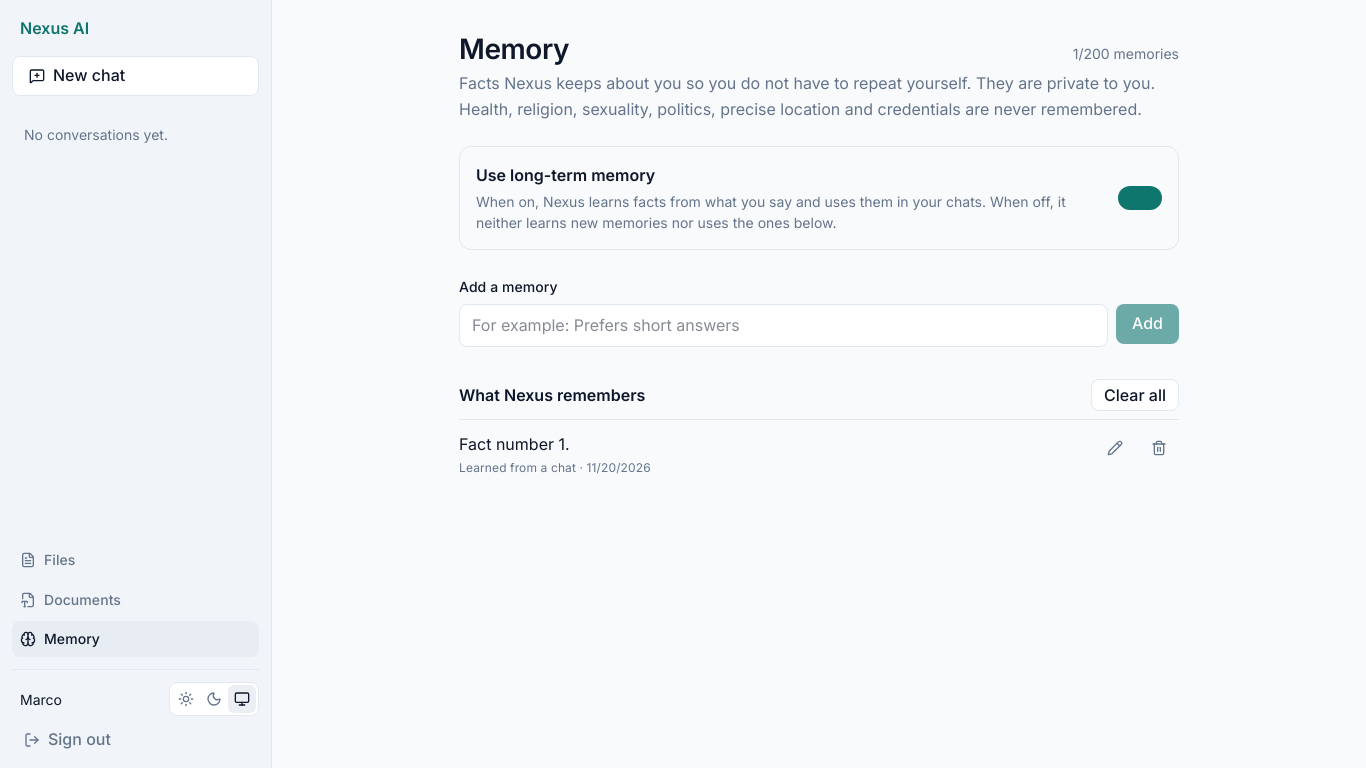
Scenario: Settings → Memory › adding › adds a memory at the top and clears the box
Type "Lives in Pune." into the field labelled "Add a memory" at (784, 326), box [459, 304, 1108, 347]
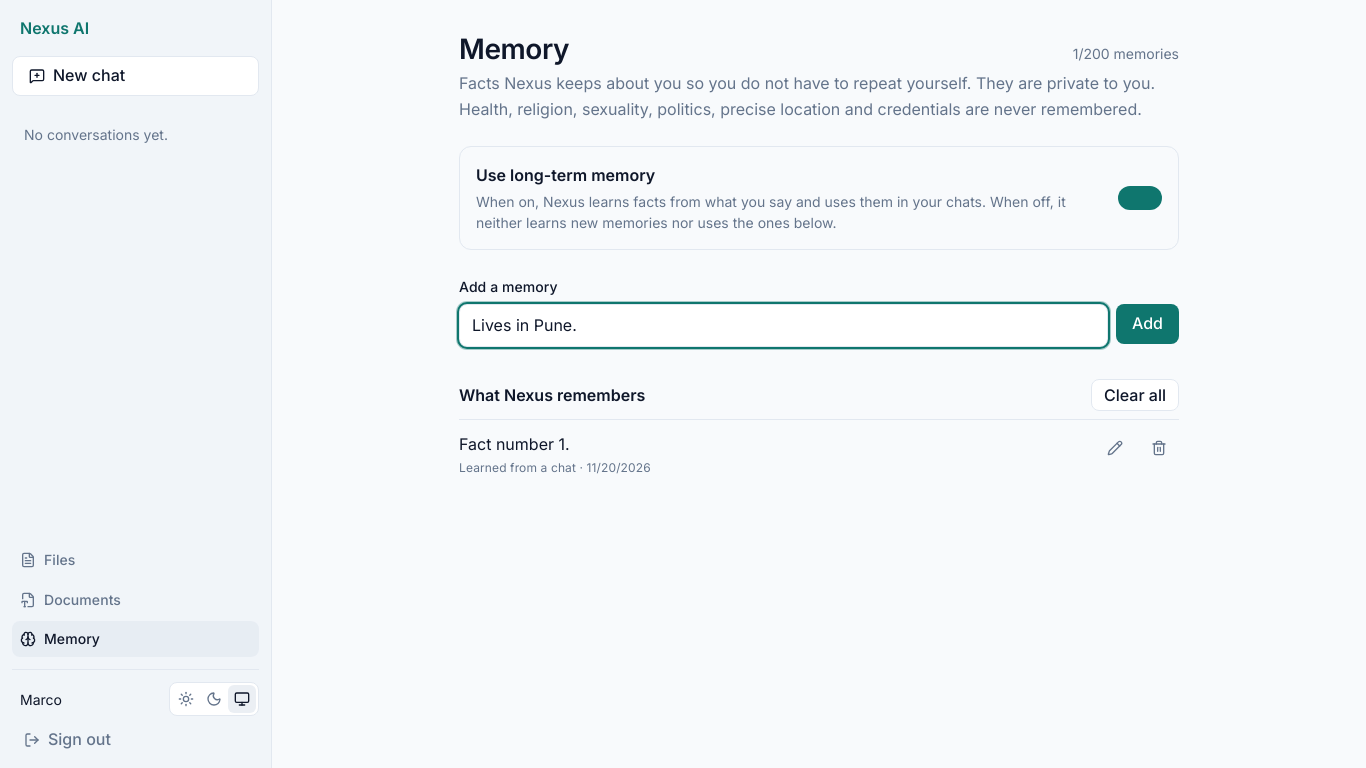
Click the button "Add" at (1148, 324), box [1116, 304, 1179, 344]
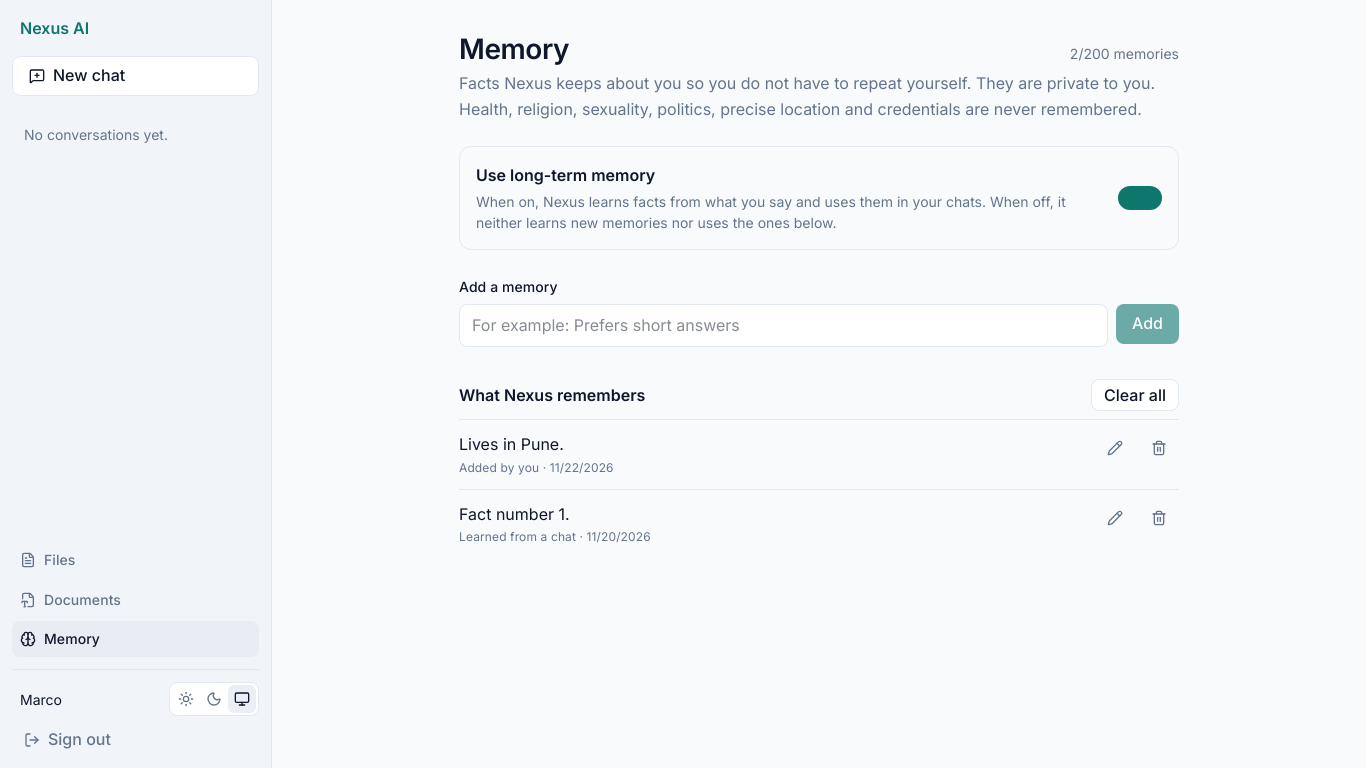
Now the text "Lives in Pune." is shown, box [459, 434, 564, 454]
Now the text "Added by you · 11/22/2026" is shown, box [459, 460, 614, 477]
Now the field labelled "Add a memory" is empty, box [459, 304, 1108, 347]
